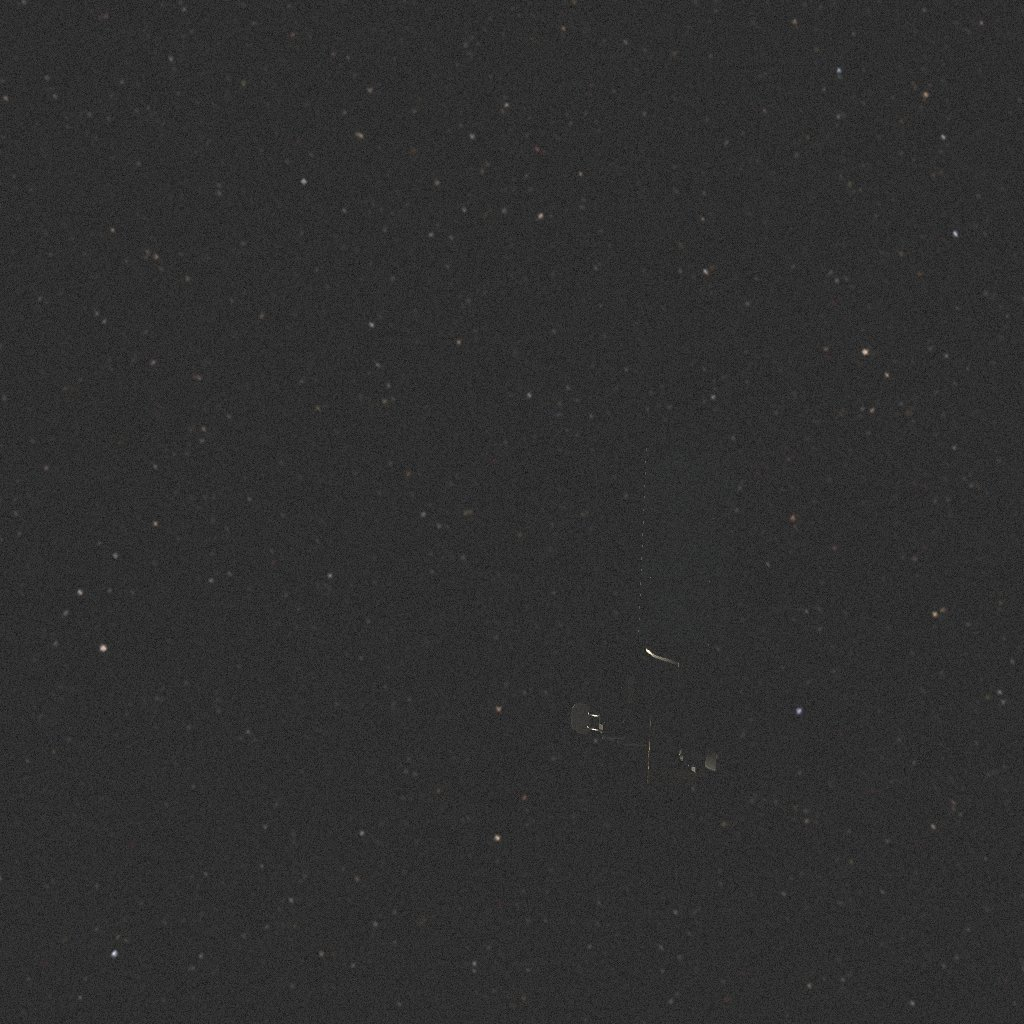earth_observation_sat_1: (571, 447, 735, 786)
